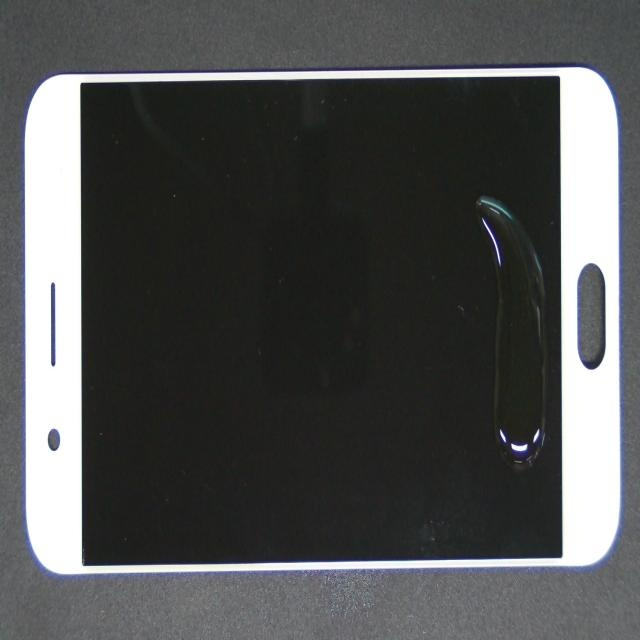oil: (233, 220, 640, 640)
